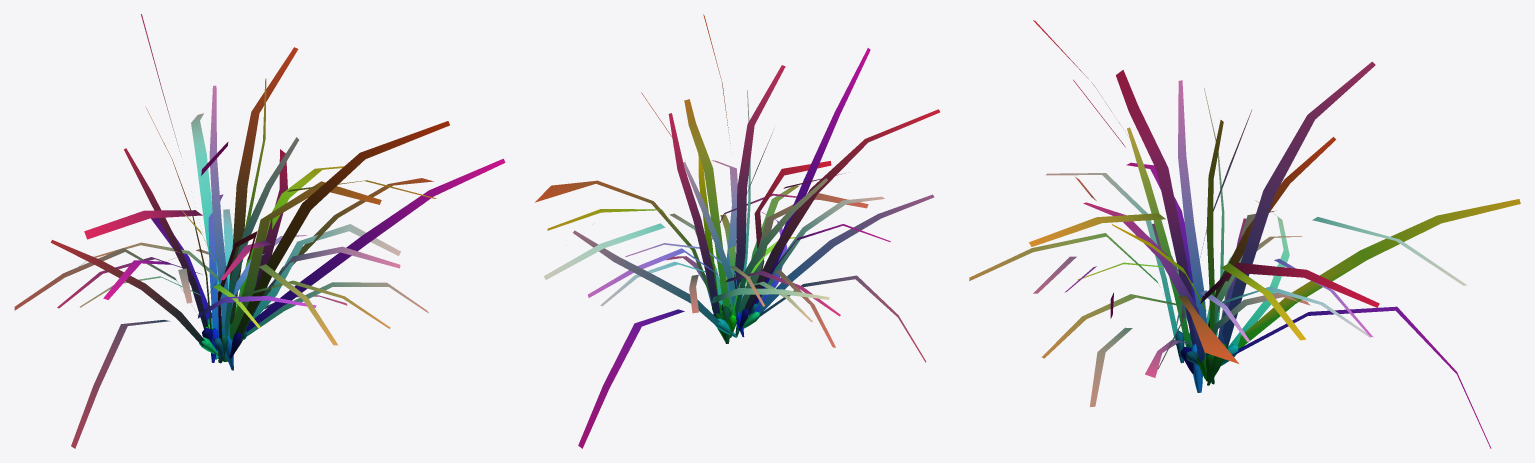
The model's file is Ribbon_Grass_tbdpec3r_High_tbdpec3r_VarA_LOD1.glb.
3 views of the same model, side by side, from view 1: azimuth 30°, elevation 25°; view 2: azimuth 150°, elevation 25°; view 3: azimuth 270°, elevation 25° (orthographic). The views are drawn at different scales.
Visible parts, largest first — view 1: _ec1a_VarA_LOD2; view 2: _ec1a_VarA_LOD2; view 3: _ec1a_VarA_LOD2.
Part boxes in pixels (left/top/right/bottom): _ec1a_VarA_LOD2: left=14, top=14, right=505, bottom=448; _ec1a_VarA_LOD2: left=535, top=14, right=939, bottom=448; _ec1a_VarA_LOD2: left=969, top=20, right=1520, bottom=448.
Bounding box in the file's own units: 0.7082 × 0.541 × 0.7287.
